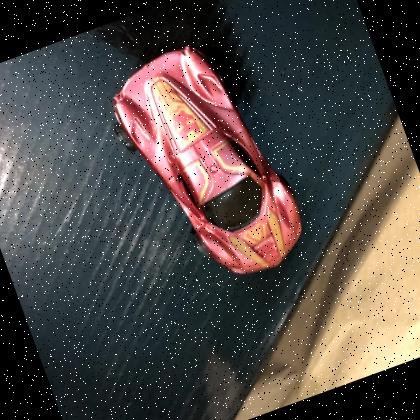Car: (95, 24, 318, 304)
